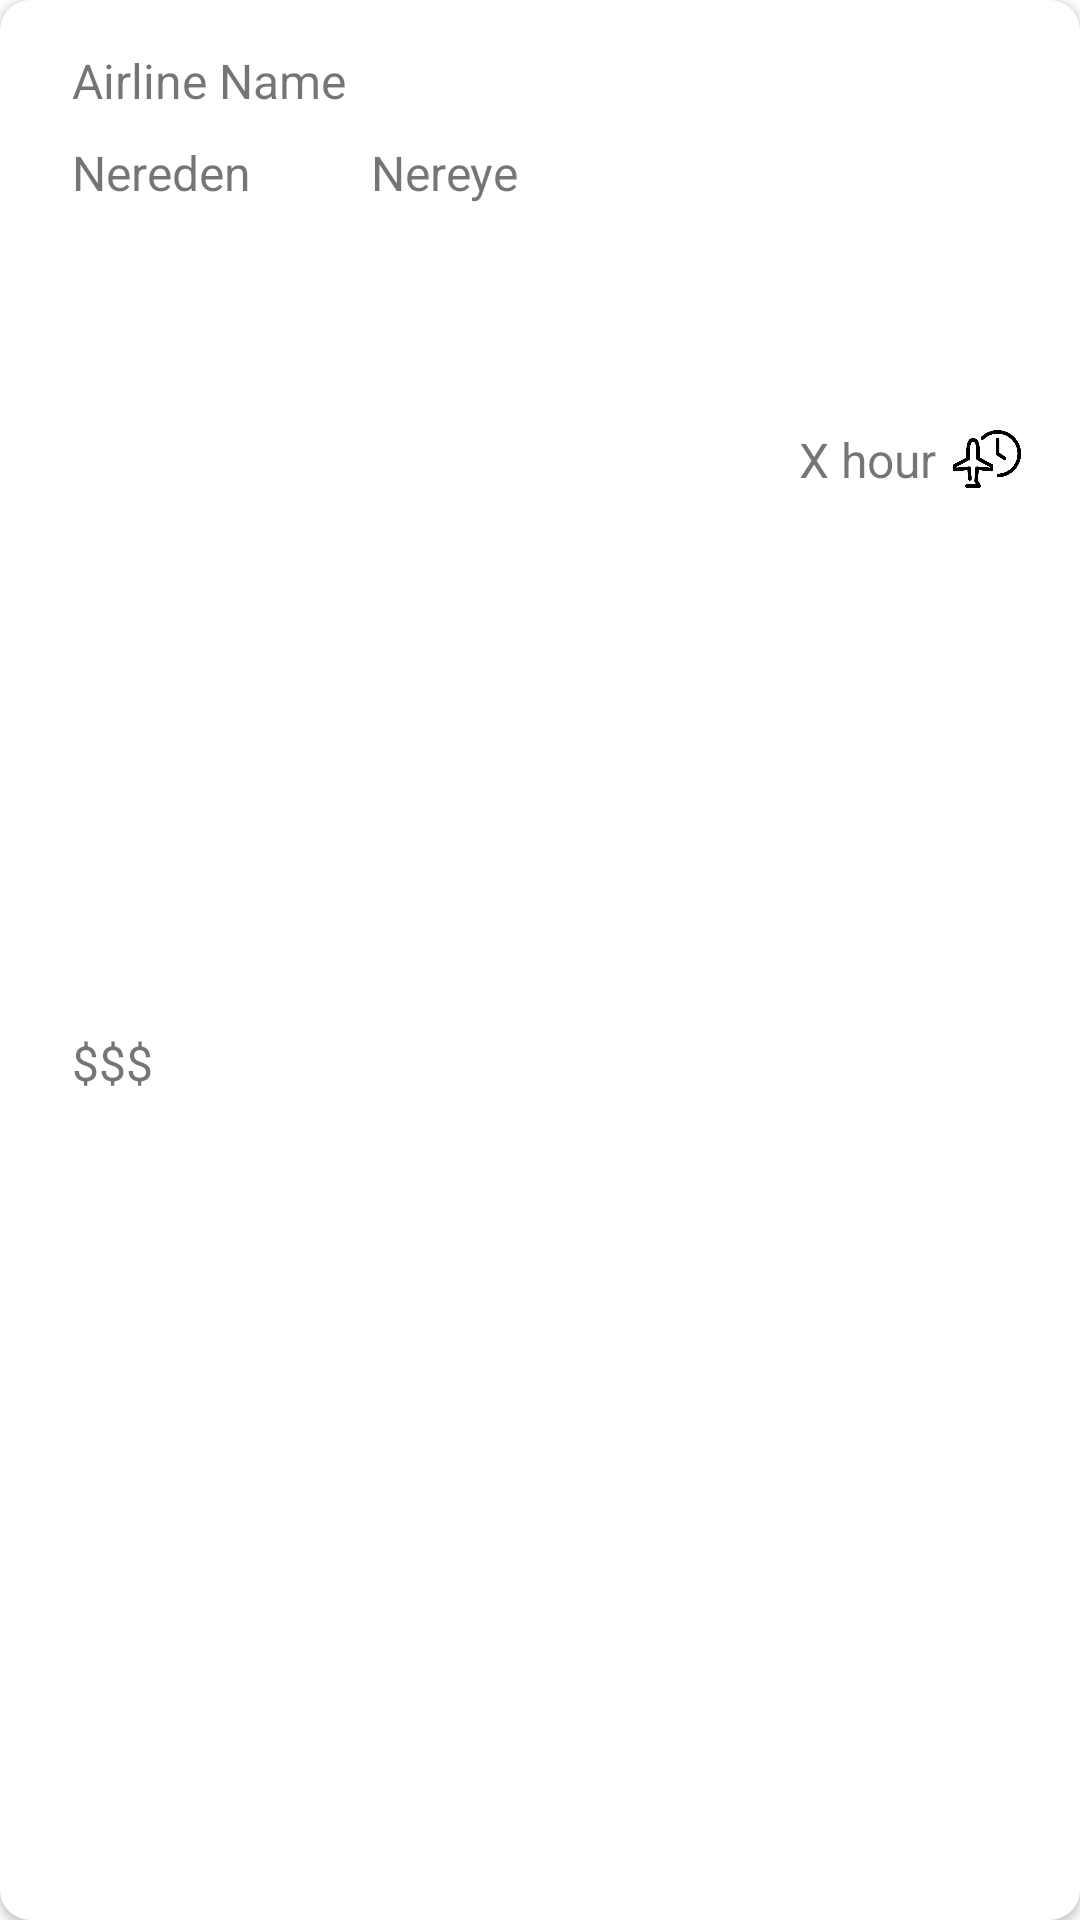

Icons on this 1080 x 1920 Android screen, each with the point to tap as (x,y):
time: (987,459)
